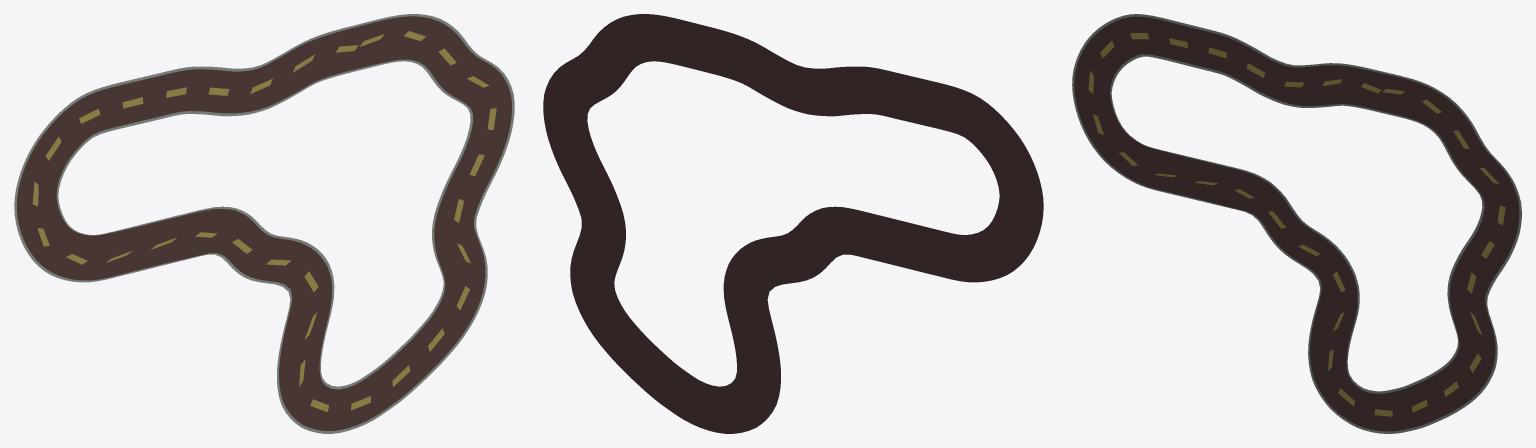
Rendered from track.obj.
3 renders of one model, left to right at view 1: azimuth 30°, elevation 25°; view 2: azimuth 150°, elevation 25°; view 3: azimuth 330°, elevation 25°, orthographic. The views are drawn at different scales.
Size of the model in its own units: 7.47 by 5.77 by 0.002.
